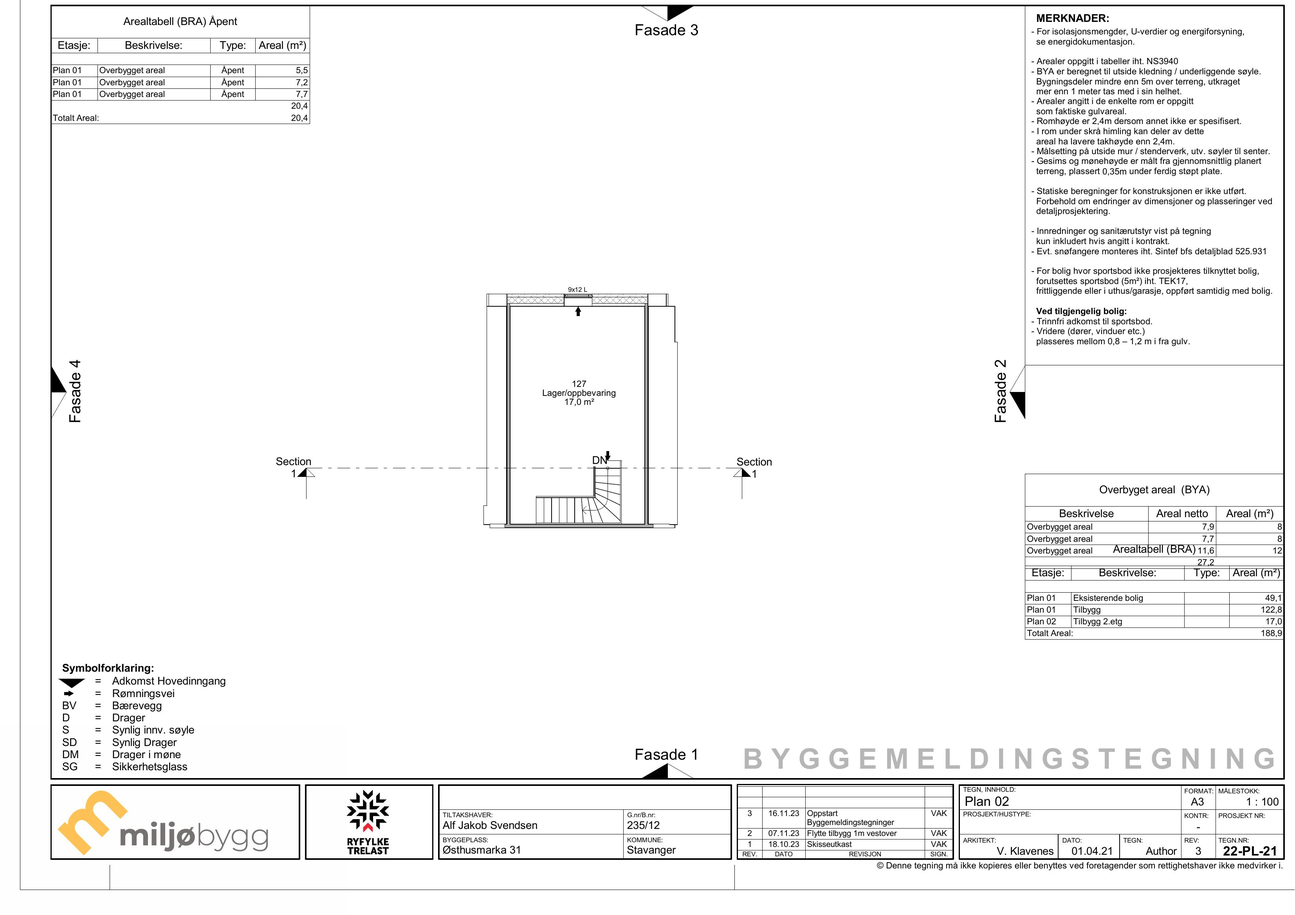plantegning: (485, 292, 681, 529)
